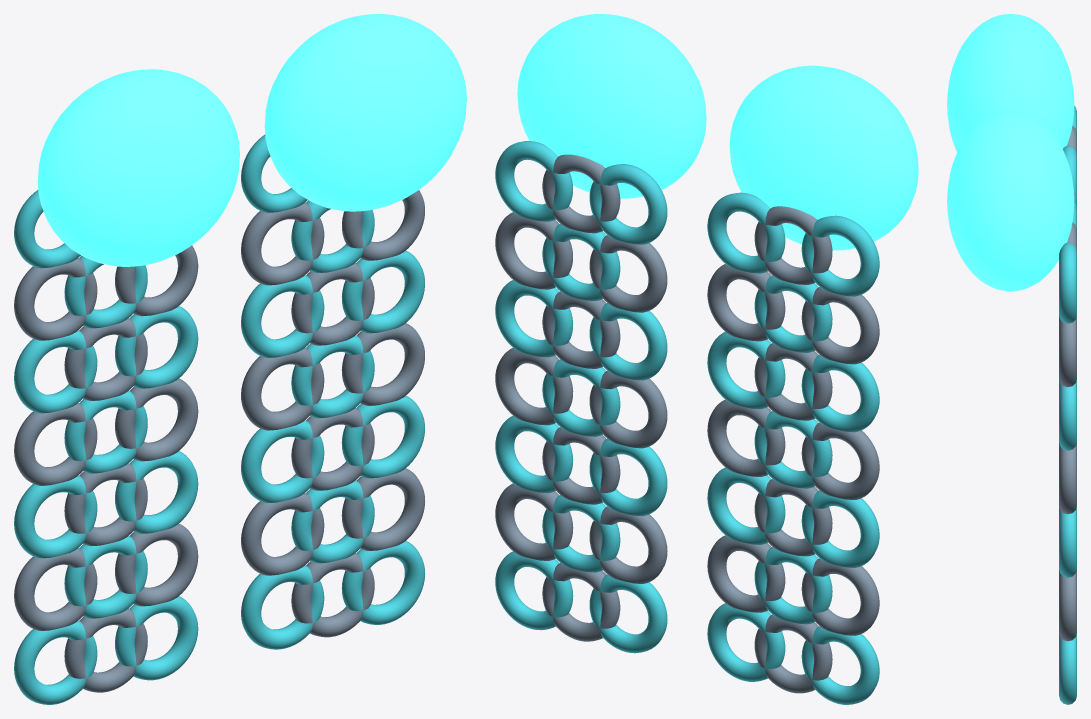
File: greaves_v7.glb
The picture shows the model from 3 angles, left to right: view 1: azimuth 30°, elevation 25°; view 2: azimuth 150°, elevation 25°; view 3: azimuth 270°, elevation 25°; orthographic projection. The views are drawn at different scales.
Parts seen in each view (by area): view 1: MAIL_KNEE_EMISSIVE.001, MAIL_KNEE_EMISSIVE, GREAVE_MAIL_ACCENT.001, GREAVE_MAIL_ACCENT.012, GREAVE_MAIL_ACCENT.018, GREAVE_MAIL_PRIMARY.005, GREAVE_MAIL_ACCENT.015, GREAVE_MAIL_ACCENT.007, GREAVE_MAIL_PRIMARY.012, GREAVE_MAIL_ACCENT.004, GREAVE_MAIL_PRIMARY.002, GREAVE_MAIL_PRIMARY.015 (+28 smaller); view 2: MAIL_KNEE_EMISSIVE, MAIL_KNEE_EMISSIVE.001, GREAVE_MAIL_ACCENT.010, GREAVE_MAIL_ACCENT.021, GREAVE_MAIL_ACCENT.020, GREAVE_MAIL_ACCENT.009, GREAVE_MAIL_ACCENT.001, GREAVE_MAIL_ACCENT.012, GREAVE_MAIL_PRIMARY.008, GREAVE_MAIL_PRIMARY.015, GREAVE_MAIL_ACCENT.018, GREAVE_MAIL_PRIMARY.002 (+32 smaller); view 3: MAIL_KNEE_EMISSIVE.001, MAIL_KNEE_EMISSIVE, GREAVE_MAIL_ACCENT.021, GREAVE_MAIL_PRIMARY.012, GREAVE_MAIL_PRIMARY.015, GREAVE_MAIL_PRIMARY.018, GREAVE_MAIL_ACCENT.012, GREAVE_MAIL_ACCENT.015, GREAVE_MAIL_ACCENT.018, GREAVE_MAIL_ACCENT.010.
Part boxes in pixels (x1,y1,x2,y2): MAIL_KNEE_EMISSIVE.001: (264,14,466,211); MAIL_KNEE_EMISSIVE: (37,69,239,266); GREAVE_MAIL_ACCENT.001: (115,596,198,680); GREAVE_MAIL_ACCENT.012: (341,541,424,624); GREAVE_MAIL_ACCENT.018: (342,250,424,333); GREAVE_MAIL_PRIMARY.005: (115,378,198,461); GREAVE_MAIL_ACCENT.015: (341,395,424,478); GREAVE_MAIL_ACCENT.007: (115,306,198,388); GREAVE_MAIL_PRIMARY.012: (341,468,425,550); GREAVE_MAIL_ACCENT.004: (115,451,198,533); GREAVE_MAIL_PRIMARY.002: (115,523,198,606); GREAVE_MAIL_PRIMARY.015: (341,323,424,405); MAIL_KNEE_EMISSIVE: (729,65,918,250); MAIL_KNEE_EMISSIVE.001: (517,14,706,198); GREAVE_MAIL_ACCENT.010: (707,192,785,273); GREAVE_MAIL_ACCENT.021: (495,141,572,221); GREAVE_MAIL_ACCENT.020: (589,164,667,244); GREAVE_MAIL_ACCENT.009: (801,215,879,296); GREAVE_MAIL_ACCENT.001: (707,603,785,681); GREAVE_MAIL_ACCENT.012: (495,551,573,630); GREAVE_MAIL_PRIMARY.008: (707,264,785,341); GREAVE_MAIL_PRIMARY.015: (495,348,573,425); GREAVE_MAIL_ACCENT.018: (495,280,573,357); GREAVE_MAIL_PRIMARY.002: (707,535,785,612); MAIL_KNEE_EMISSIVE.001: (947,111,1074,291); MAIL_KNEE_EMISSIVE: (947,14,1074,152); GREAVE_MAIL_ACCENT.021: (1059,242,1076,323); GREAVE_MAIL_PRIMARY.012: (1059,569,1076,641); GREAVE_MAIL_PRIMARY.015: (1059,442,1076,514); GREAVE_MAIL_PRIMARY.018: (1059,315,1076,386); GREAVE_MAIL_ACCENT.012: (1059,633,1076,704); GREAVE_MAIL_ACCENT.015: (1059,506,1076,577); GREAVE_MAIL_ACCENT.018: (1059,379,1076,450); GREAVE_MAIL_ACCENT.010: (1063,145,1076,207).
Size of the model in its own units: 1.32 by 1.94 by 0.408.
